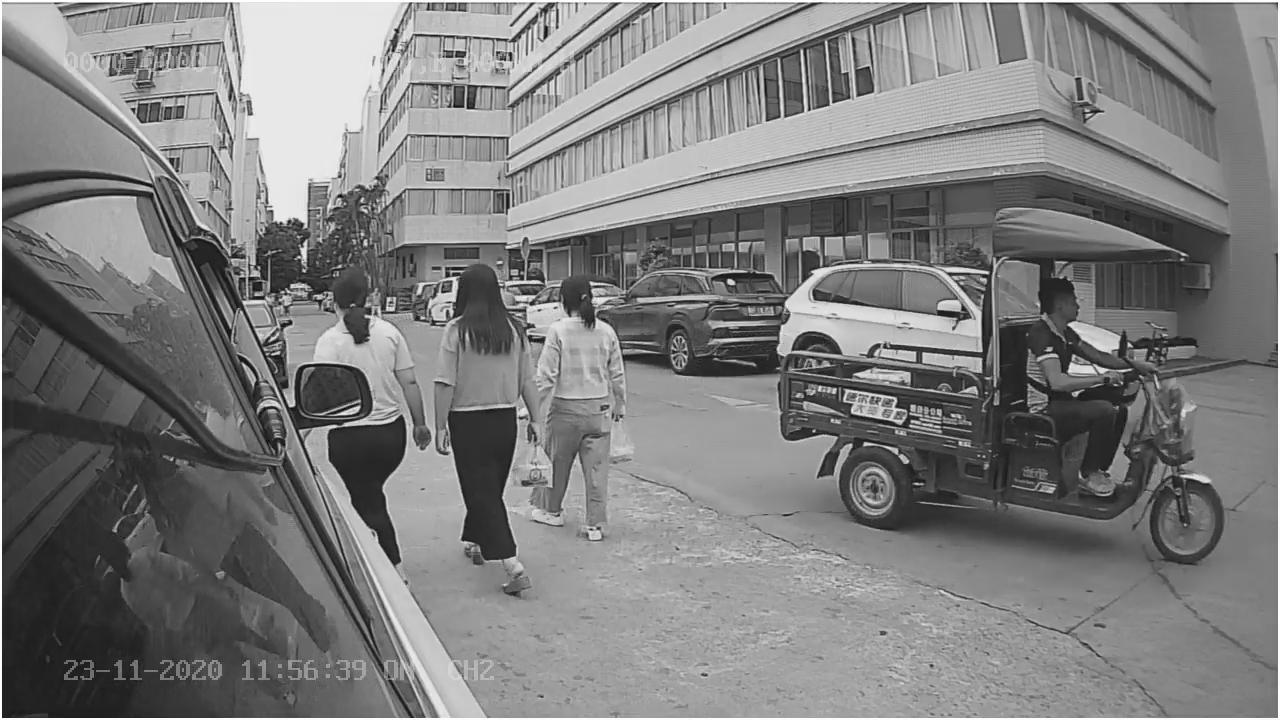person: (433, 252, 536, 613), (533, 275, 626, 557)
